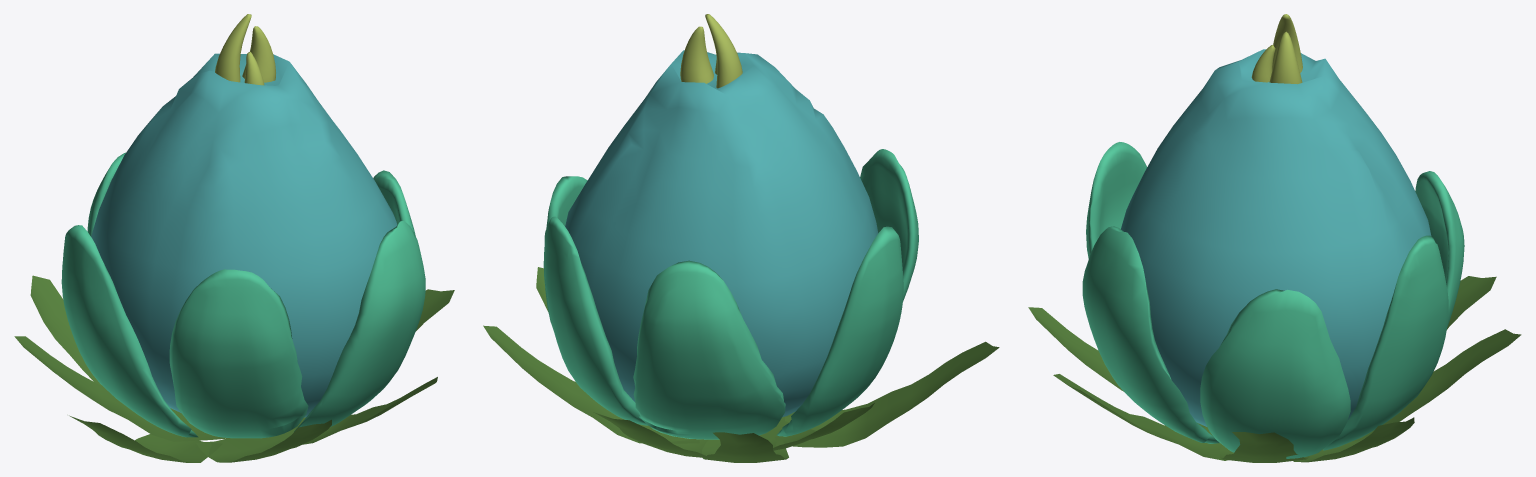
Rendered from MSH_Bud.fbx.
The picture shows the model from 3 angles, left to right: view 1: azimuth 30°, elevation 25°; view 2: azimuth 150°, elevation 25°; view 3: azimuth 270°, elevation 25°; orthographic projection. The views are drawn at different scales.
Parts seen in each view (by area): view 1: polySurface23; view 2: polySurface23; view 3: polySurface23.
Part boxes in pixels (x1=…): polySurface23: x1=14, y1=14, x2=454, y2=462; polySurface23: x1=483, y1=14, x2=999, y2=462; polySurface23: x1=1028, y1=14, x2=1521, y2=462.
Bounding box in the file's own units: 97.88 × 89.89 × 95.08.
